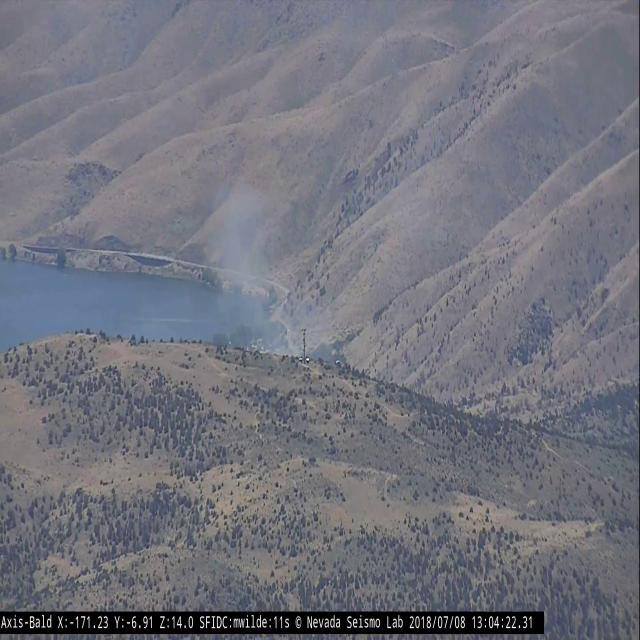smoke: (204, 171, 334, 366)
